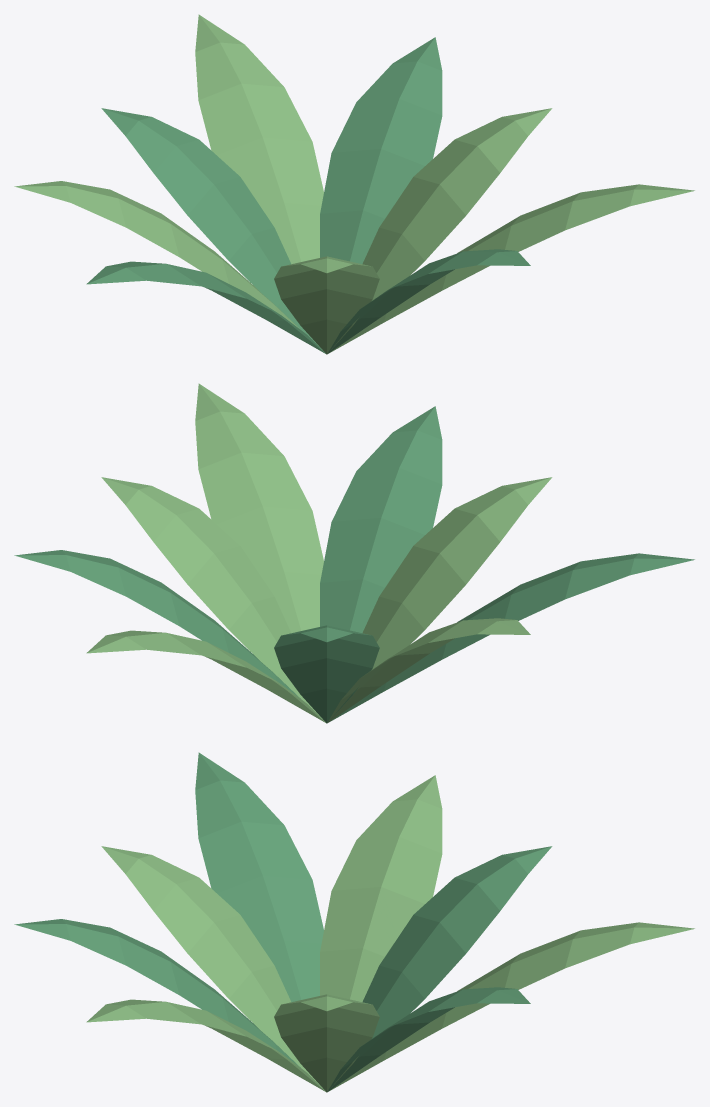
File: GardenFern.fbx
The picture shows the model from 3 angles, top to bottom: view 1: azimuth 30°, elevation 25°; view 2: azimuth 150°, elevation 25°; view 3: azimuth 270°, elevation 25°; orthographic projection.
Parts seen in each view (by area): view 1: FernFrond.002, FernFrond.001, FernFrond.003, FernFrond, FernFrond.008, FernFrond.006, FernFrond.004, FernFrond.007, FernFrond.005; view 2: FernFrond.008, FernFrond.007, FernFrond, FernFrond.006, FernFrond.005, FernFrond.003, FernFrond.001, FernFrond.004, FernFrond.002; view 3: FernFrond.005, FernFrond.004, FernFrond.006, FernFrond.003, FernFrond.002, FernFrond, FernFrond.007, FernFrond.001, FernFrond.008.
Part boxes in pixels (x1,y1,x2,y2): FernFrond.002: [195, 14, 323, 264]; FernFrond.001: [320, 37, 442, 263]; FernFrond.003: [101, 108, 325, 353]; FernFrond: [362, 108, 552, 300]; FernFrond.008: [328, 184, 694, 353]; FernFrond.006: [274, 256, 379, 354]; FernFrond.004: [14, 181, 300, 329]; FernFrond.007: [327, 249, 530, 353]; FernFrond.005: [86, 261, 325, 353]; FernFrond.008: [195, 383, 323, 633]; FernFrond.007: [320, 406, 442, 632]; FernFrond: [101, 477, 325, 722]; FernFrond.006: [362, 477, 552, 669]; FernFrond.005: [328, 553, 694, 722]; FernFrond.003: [274, 625, 379, 723]; FernFrond.001: [14, 550, 300, 698]; FernFrond.004: [327, 618, 530, 722]; FernFrond.002: [86, 630, 325, 722]; FernFrond.005: [195, 752, 323, 1002]; FernFrond.004: [320, 775, 442, 1001]; FernFrond.006: [101, 846, 325, 1091]; FernFrond.003: [362, 846, 552, 1038]; FernFrond.002: [328, 922, 694, 1091]; FernFrond: [274, 994, 379, 1092]; FernFrond.007: [14, 919, 300, 1067]; FernFrond.001: [327, 987, 530, 1091]; FernFrond.008: [86, 999, 325, 1091].
Size of the model in its own units: 0.7846 by 0.2593 by 0.8371.
